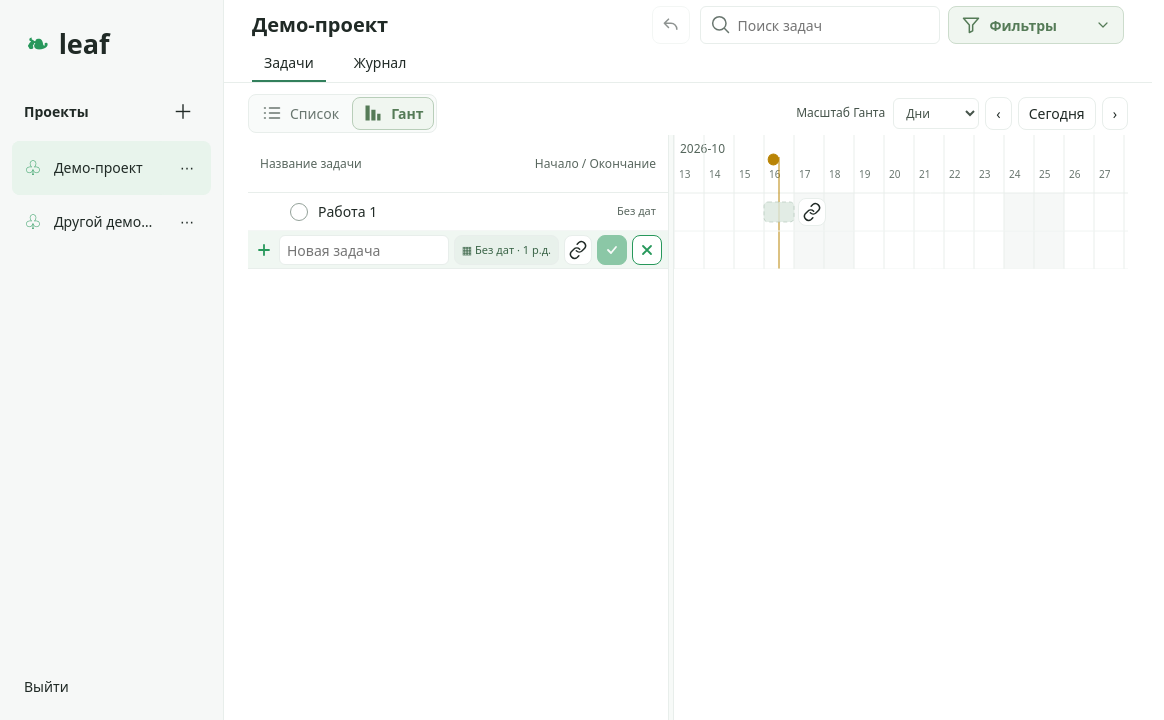
Test: keeps failed inactive-menu loading recoverable without opening the previous project menu
Expected: the heading "Демо-проект" is shown, x1=252 y1=11 x2=388 y2=38
What coordinates should you click on to do the following:
click the button named "Действия проекта"
I would click on:
 (187, 222)
Its box is x1=167 y1=203 x2=207 y2=240.
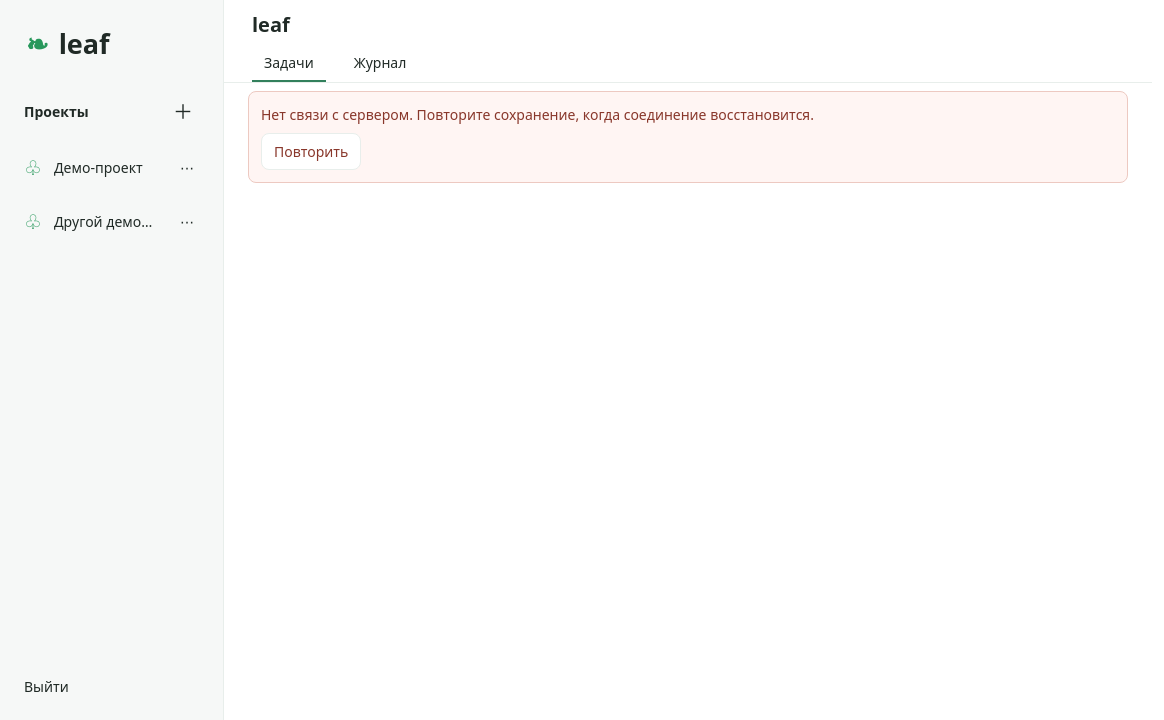
Expected: the button "Настройки проекта" is not shown
Expected: the text "Нет связи с сервером" is shown, x1=261 y1=105 x2=814 y2=124
What coordinates should you click on to do the following:
click the button "Повторить"
I would click on:
 (311, 152)
Its box is x1=261 y1=133 x2=361 y2=170.
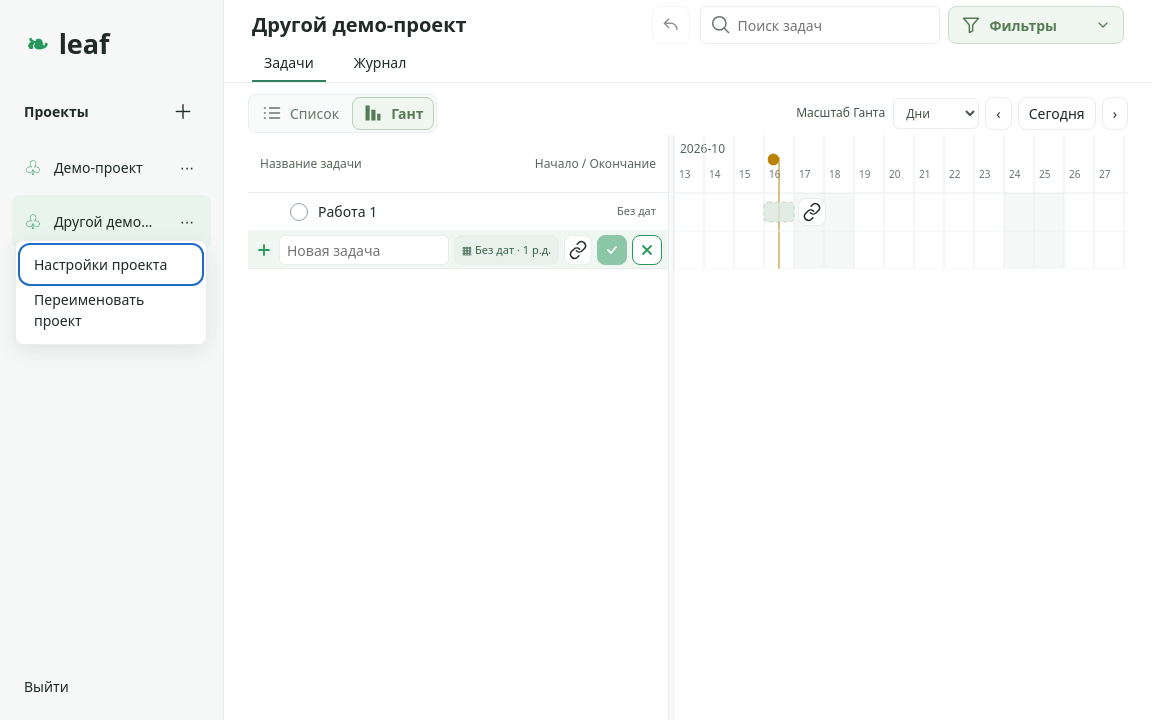
Expected: the heading "Другой демо-проект" is shown, x1=252 y1=11 x2=467 y2=38
